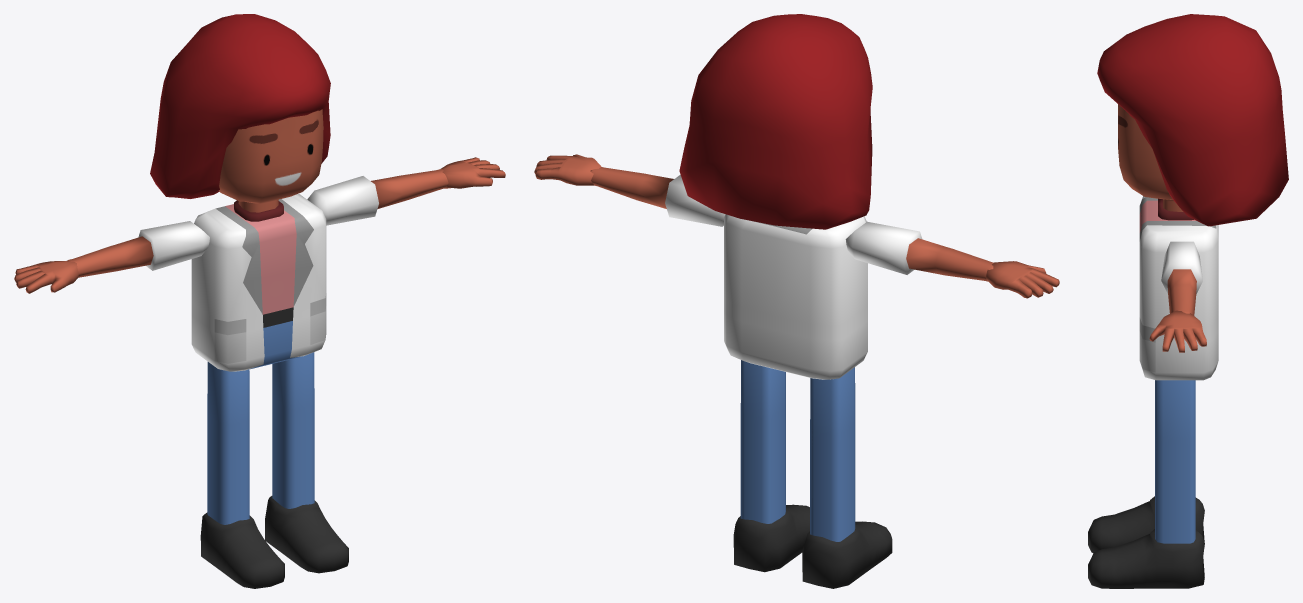
File: NPC_Black02_RedHair05.gltf
3 views of the same model, side by side, from view 1: azimuth 30°, elevation 25°; view 2: azimuth 150°, elevation 25°; view 3: azimuth 270°, elevation 25° (orthographic). The views are drawn at different scales.
Parts seen in each view (by area): view 1: NPC_Corpo_Black2_RedHair.005; view 2: NPC_Corpo_Black2_RedHair.005; view 3: NPC_Corpo_Black2_RedHair.005.
Boxes of the visible parts, left/top/right/bottom form: NPC_Corpo_Black2_RedHair.005: left=14, top=14, right=505, bottom=588; NPC_Corpo_Black2_RedHair.005: left=534, top=14, right=1059, bottom=588; NPC_Corpo_Black2_RedHair.005: left=1088, top=14, right=1288, bottom=588.
Bounding box in the file's own units: 2.31 × 2.37 × 0.7967.
Materials: 1 (1 with a texture image).
